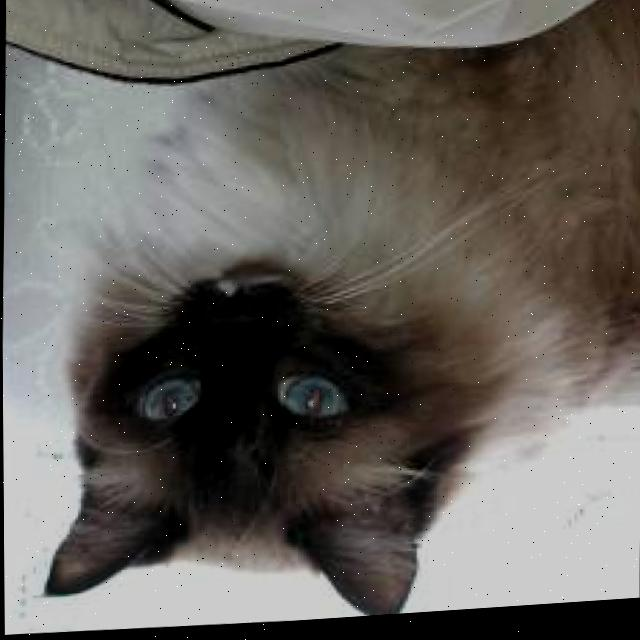Siamese: (27, 0, 640, 639)
